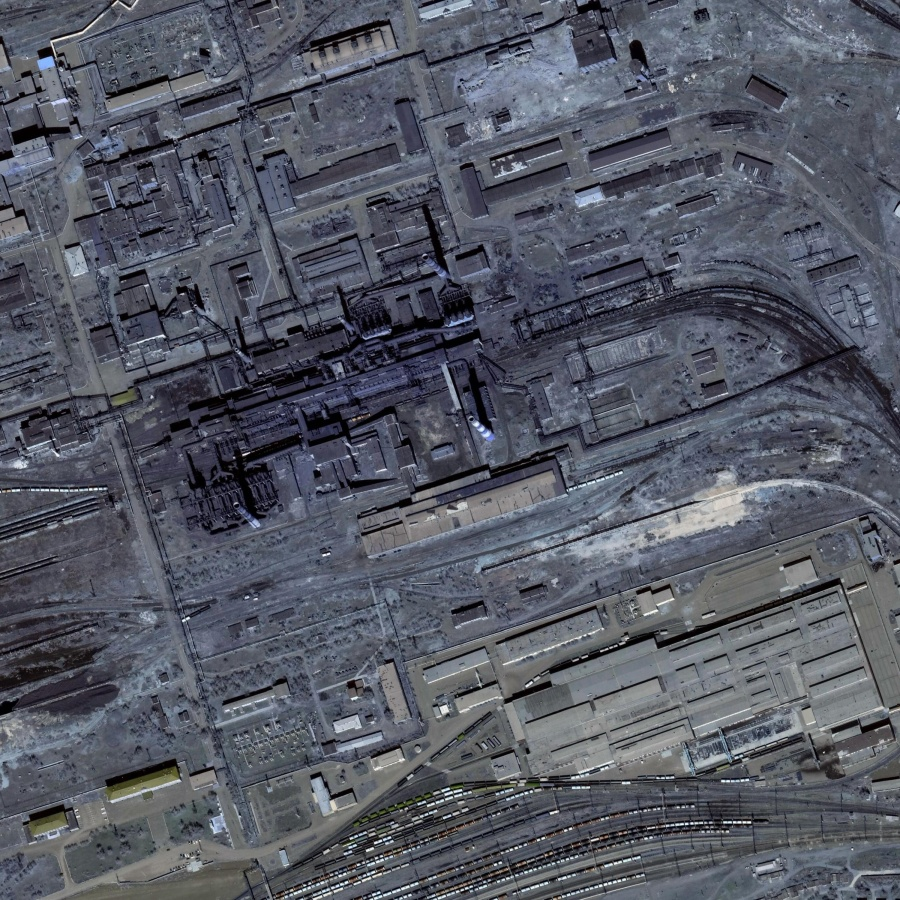PowerPlant: (163, 241, 515, 535)
